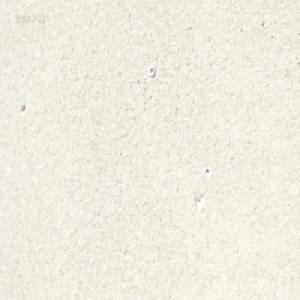Washer: (149, 65, 155, 77)
